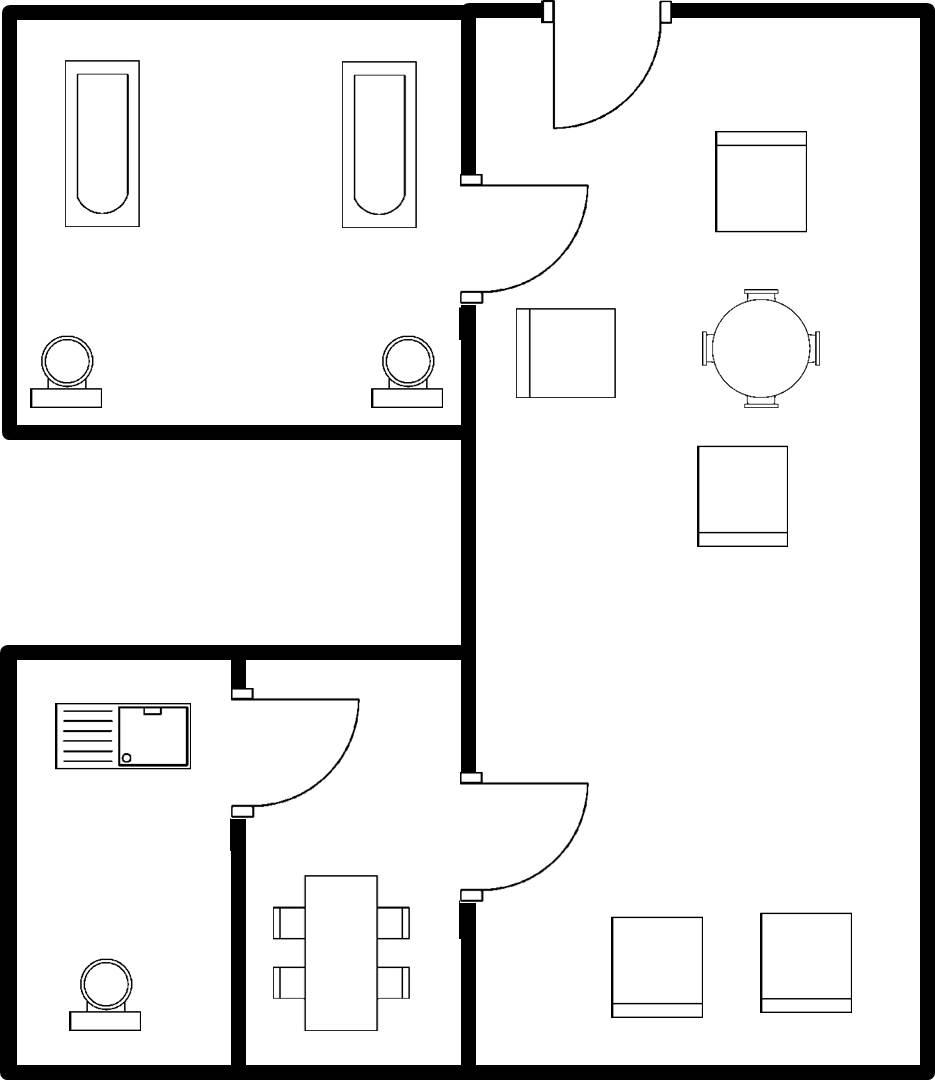dining_table: (262, 863, 420, 1041)
round_table: (689, 279, 830, 418)
sink: (45, 694, 197, 779)
toilet: (60, 951, 148, 1040), (361, 327, 450, 413), (25, 328, 110, 415)
tub: (333, 50, 425, 235), (55, 52, 146, 233)
